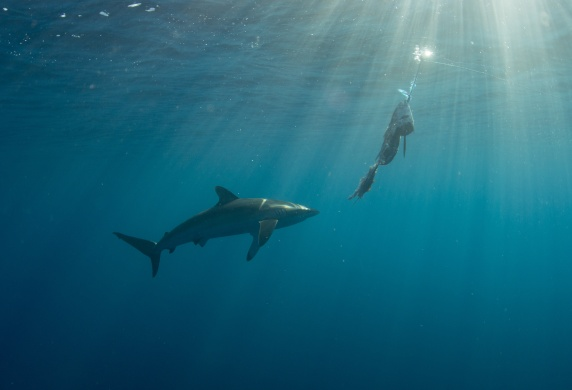Sedoso: (106, 182, 327, 291)
